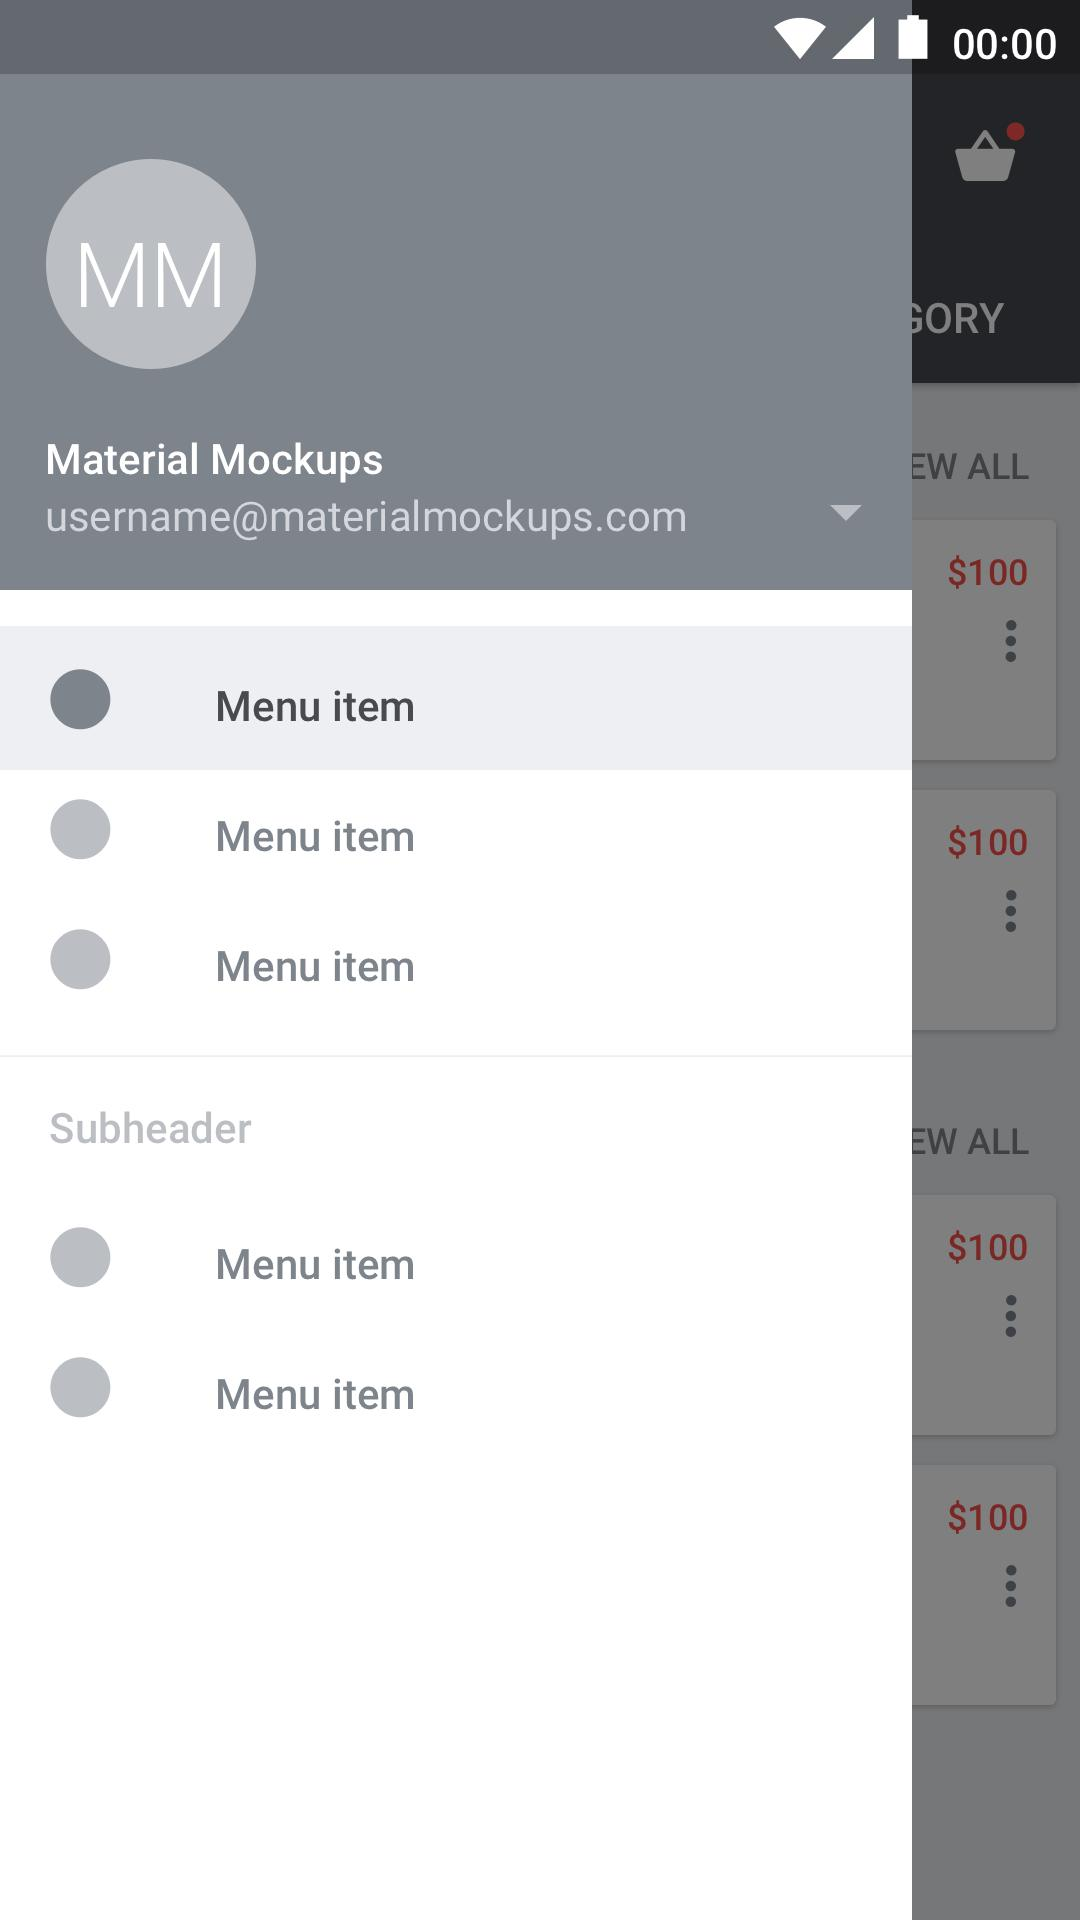Drawer: (1, 75, 913, 1920)
Icon: (49, 666, 113, 732), (49, 1356, 112, 1419), (50, 798, 113, 861), (51, 927, 113, 992), (50, 1226, 113, 1288), (827, 504, 864, 522)
Image: (46, 160, 258, 368)
Text: (46, 501, 687, 545), (47, 443, 385, 487), (47, 1108, 253, 1149), (214, 1245, 418, 1283), (218, 688, 415, 727), (218, 1375, 415, 1414), (218, 819, 417, 855), (215, 949, 417, 984)
UpperTaskBar: (1, 1, 1077, 75)
